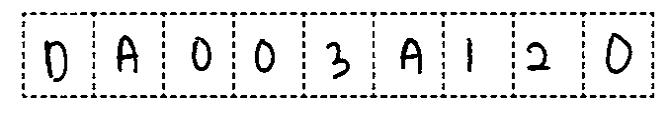0: (596, 28, 638, 77), (246, 36, 286, 80), (183, 32, 218, 79)
1: (450, 31, 486, 79), (521, 34, 554, 81)
3: (317, 36, 357, 85)
A: (110, 33, 145, 80), (394, 31, 428, 79)
D: (38, 36, 75, 87)
